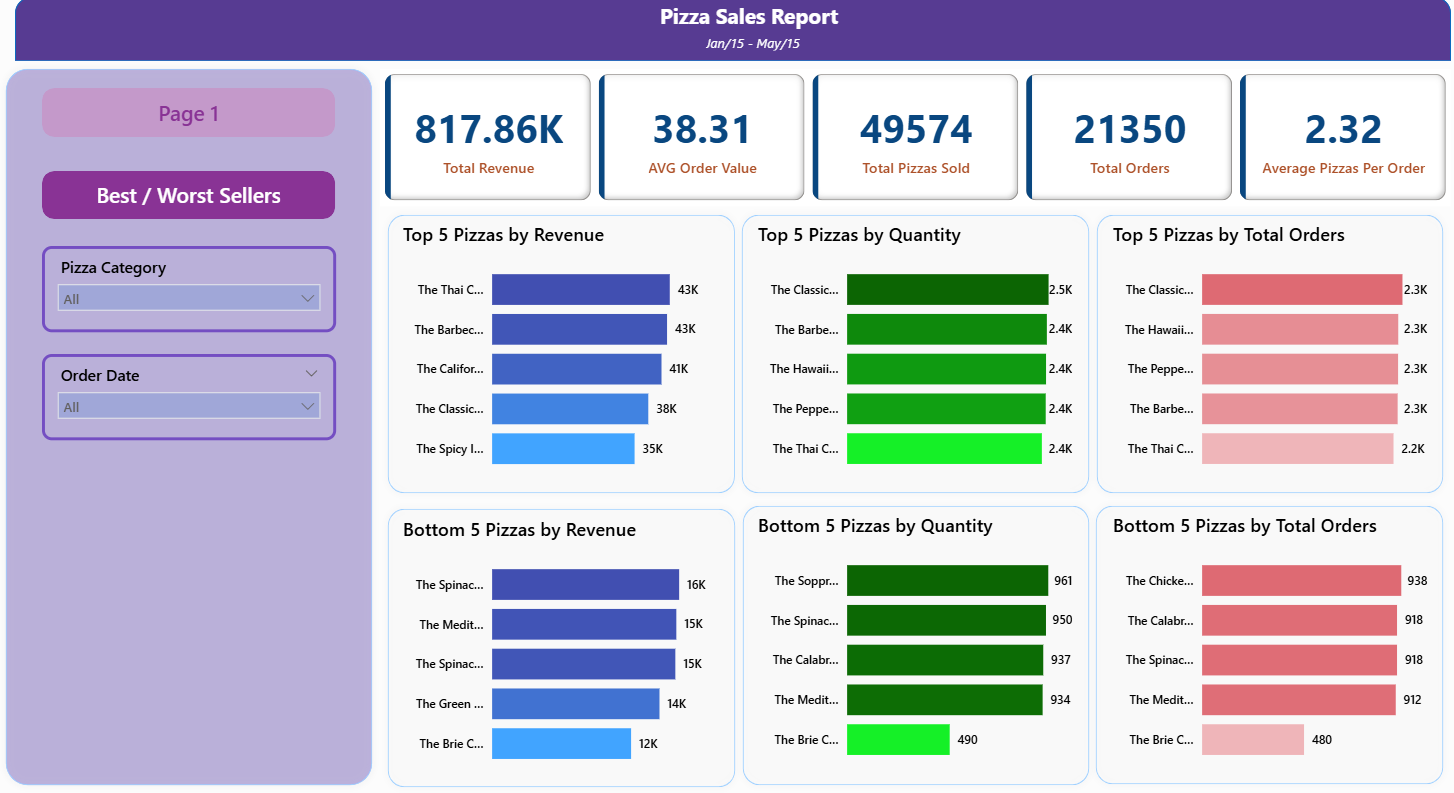

Layout of this report page (visuals, bound fields, positions):
{"tool":"powerbi","page":{"name":"Best / Worst Sellers","canvas":[1500,820],"ordinal":1},"visuals":[{"type":"cardVisual","fields":{"Data":["project pizza_sales_excel_file.Total Revenue","project pizza_sales_excel_file.AVG Order_Value","project pizza_sales_excel_file.Total Pizzas Sold","project pizza_sales_excel_file.Total Orders","project pizza_sales_excel_file.Average Pizzas Per Order"]},"box":[389.6,73.4,1092.3,139.7],"z":0},{"type":"shape","box":[17.3,0,1464.6,65.3],"z":1000},{"type":"textbox","box":[670.1,0,201.9,38.8],"z":2000},{"type":"textbox","box":[717,32.6,118.3,26.5],"z":3000},{"type":"shape","box":[0,65.3,389.6,746.6],"z":4000},{"type":"slicer","fields":{"Values":["project pizza_sales_excel_file.pizza_category"]},"box":[44.5,254.2,299.8,87.8],"z":5000},{"type":"slicer","fields":{"Values":["project pizza_sales_excel_file.order_date"]},"box":[44.5,363.6,299.8,87.8],"z":6000},{"type":"shape","box":[389.6,214.2,370,300],"z":7000},{"type":"shape","box":[750.6,214.2,370.2,300],"z":8000},{"type":"shape","box":[1112.7,214.2,369.2,300],"z":9000},{"type":"shape","box":[389.6,514,370.2,300],"z":10000},{"type":"shape","box":[1111.7,511,370.2,299.9],"z":11000},{"type":"shape","box":[751.7,511,369.2,300.9],"z":12000},{"type":"barChart","title":"Top 5 Pizzas by Revenue","fields":{"Y":["project pizza_sales_excel_file.Total Revenue"],"Category":["project pizza_sales_excel_file.pizza_name"]},"box":[408,228.5,331.5,270.3],"z":13000},{"type":"barChart","title":"Bottom 5 Pizzas by Revenue","fields":{"Y":["project pizza_sales_excel_file.Total Revenue"],"Category":["project pizza_sales_excel_file.pizza_name"]},"box":[408.1,528.9,330.5,270.1],"z":14000},{"type":"barChart","title":"Top 5 Pizzas by Quantity","fields":{"Category":["project pizza_sales_excel_file.pizza_name"],"Y":["project pizza_sales_excel_file.Total Pizzas Sold"]},"box":[770.5,228,330.5,270.1],"z":15000},{"type":"barChart","title":"Bottom 5 Pizzas by Quantity","fields":{"Category":["project pizza_sales_excel_file.pizza_name"],"Y":["project pizza_sales_excel_file.Total Pizzas Sold"]},"box":[770.5,525.5,330.5,270.1],"z":16000},{"type":"barChart","title":"Top 5 Pizzas by Total Orders","fields":{"Category":["project pizza_sales_excel_file.pizza_name"],"Y":["project pizza_sales_excel_file.Total Orders"]},"box":[1131.8,228,330.5,270.1],"z":17000},{"type":"barChart","title":"Bottom 5 Pizzas by Total Orders","fields":{"Category":["project pizza_sales_excel_file.pizza_name"],"Y":["project pizza_sales_excel_file.Total Orders"]},"box":[1131.8,525.5,330.5,270.1],"z":18000},{"type":"pageNavigator","box":[44.9,92.8,299.9,51],"z":19000},{"type":"pageNavigator","box":[44.9,177.5,299.9,50],"z":20000}]}

Visuals, with their boxes in screenshot pixels (x1, y1, x2, y2), scaled from the page's 1500x820 canvas onto the 1454x793 screenshot:
cardVisual - project pizza_sales_excel_file.Total Revenue x project pizza_sales_excel_file.AVG Order_Value: 378/71/1436/206
shape: 17/0/1436/63
textbox: 650/0/845/38
textbox: 695/32/810/57
shape: 0/63/378/785
slicer - project pizza_sales_excel_file.pizza_category: 43/246/334/331
slicer - project pizza_sales_excel_file.order_date: 43/352/334/437
shape: 378/207/736/497
shape: 728/207/1086/497
shape: 1079/207/1436/497
shape: 378/497/736/787
shape: 1078/494/1436/784
shape: 729/494/1087/785
"Top 5 Pizzas by Revenue" barChart: 395/221/717/482
"Bottom 5 Pizzas by Revenue" barChart: 396/511/716/773
"Top 5 Pizzas by Quantity" barChart: 747/220/1067/482
"Bottom 5 Pizzas by Quantity" barChart: 747/508/1067/769
"Top 5 Pizzas by Total Orders" barChart: 1097/220/1417/482
"Bottom 5 Pizzas by Total Orders" barChart: 1097/508/1417/769
pageNavigator: 44/90/334/139
pageNavigator: 44/172/334/220
